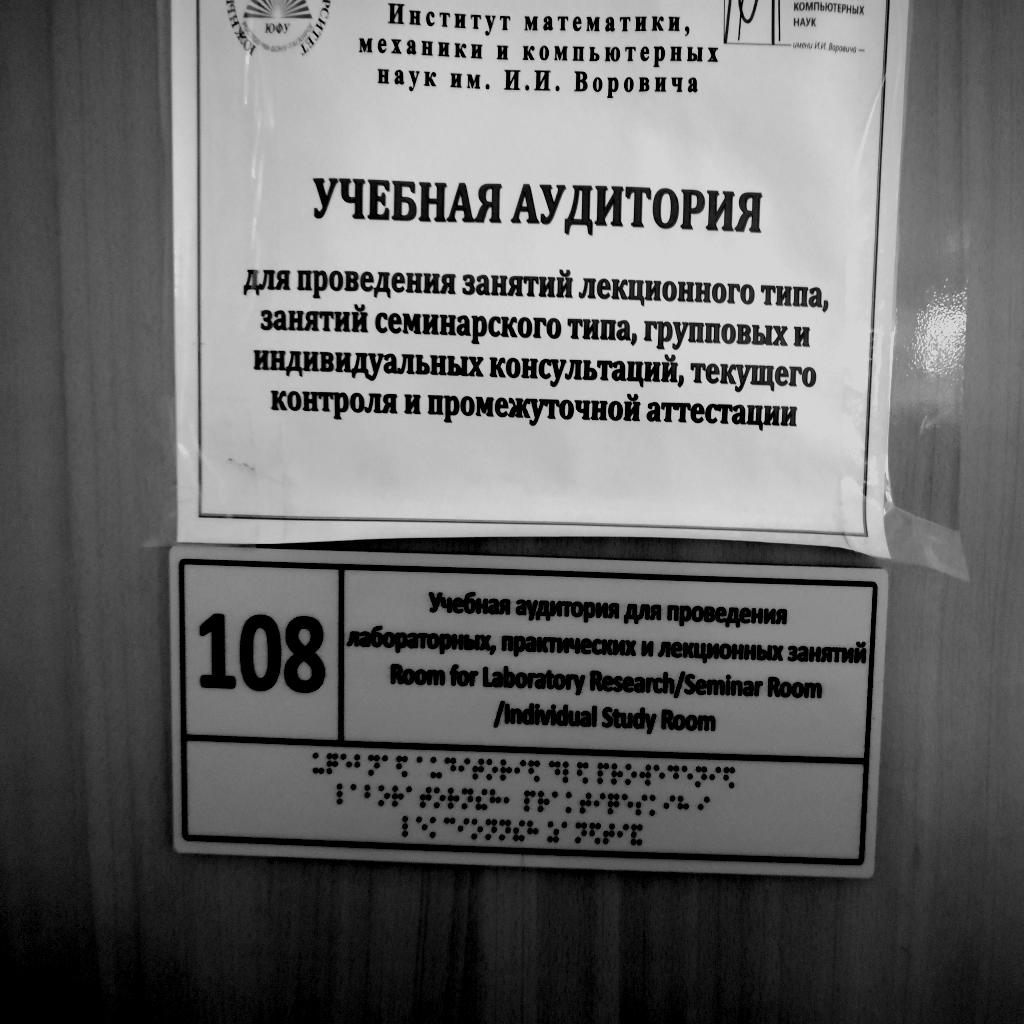_n: (461, 787, 474, 810), (485, 818, 497, 841), (499, 819, 511, 842), (575, 822, 587, 844), (696, 765, 707, 788), (368, 754, 380, 775)
_y: (430, 756, 443, 779), (313, 752, 324, 774)
a: (350, 783, 362, 805), (406, 785, 418, 807), (417, 756, 428, 779), (552, 790, 563, 812), (382, 754, 393, 775), (562, 821, 573, 842)
b: (364, 783, 376, 806), (355, 755, 367, 776)
c: (443, 817, 456, 838)
ch: (608, 792, 620, 815), (327, 752, 338, 775)
d: (444, 756, 456, 780), (549, 760, 561, 783), (668, 765, 680, 788)
e: (682, 765, 694, 789), (416, 816, 428, 838), (654, 764, 665, 787), (340, 753, 352, 774), (622, 793, 633, 815)
i: (459, 757, 471, 780), (710, 766, 722, 789), (698, 795, 710, 818), (594, 792, 606, 814), (664, 794, 676, 816), (458, 817, 470, 839), (617, 823, 629, 844), (515, 759, 526, 781)
iKratkoe: (631, 822, 644, 846)
ii: (513, 819, 526, 842), (476, 789, 488, 811)
k: (566, 791, 578, 814), (430, 816, 442, 839), (650, 794, 662, 816)
l: (402, 815, 415, 838), (337, 783, 350, 805), (563, 762, 575, 784)
o: (486, 758, 498, 781), (625, 763, 637, 786), (434, 786, 446, 809), (378, 785, 390, 807), (472, 817, 483, 840)
p: (598, 762, 610, 785), (524, 790, 536, 812)
r: (611, 762, 623, 786), (500, 759, 512, 782), (392, 785, 404, 808), (538, 790, 550, 813), (448, 787, 460, 809)
s: (636, 794, 647, 816)
t: (603, 822, 615, 845), (420, 786, 432, 808), (580, 792, 592, 814), (473, 758, 484, 781)
v: (640, 764, 651, 787)
x: (527, 820, 539, 843), (678, 795, 689, 818), (490, 789, 502, 810)
ya: (528, 759, 541, 783), (577, 761, 589, 785), (396, 755, 408, 778), (589, 822, 601, 845), (724, 766, 735, 790)
z: (548, 821, 560, 844)
zapyataya: (503, 790, 515, 811)
